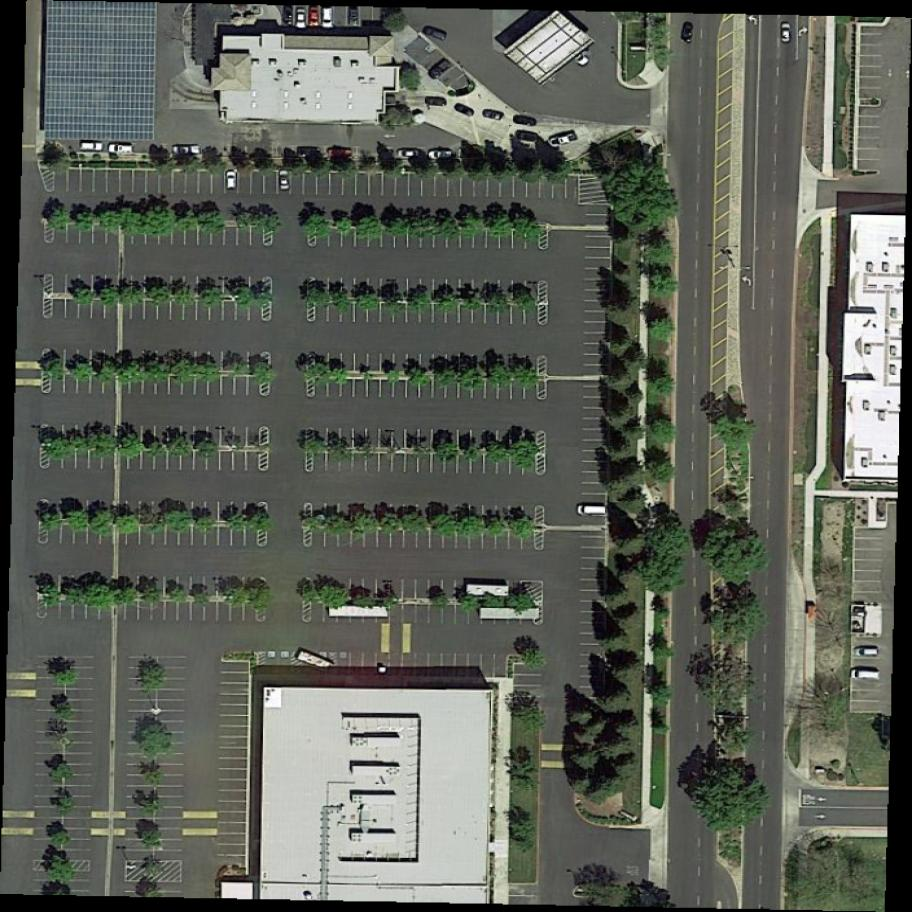large-vehicle: (108, 143, 135, 155), (80, 141, 104, 151)
small-vehicle: (295, 648, 337, 673), (426, 54, 456, 83), (548, 129, 583, 149), (451, 99, 479, 122), (422, 24, 451, 44), (566, 45, 591, 68), (577, 503, 608, 517), (171, 143, 201, 157), (511, 113, 539, 128), (680, 20, 696, 46), (483, 107, 506, 124), (294, 7, 311, 30), (224, 169, 240, 192), (277, 170, 293, 193), (515, 129, 540, 143), (282, 4, 297, 26), (397, 147, 422, 160), (854, 668, 881, 680), (854, 646, 881, 658), (427, 95, 451, 108), (429, 149, 455, 160), (321, 7, 334, 29), (780, 23, 792, 44), (310, 6, 321, 28)
